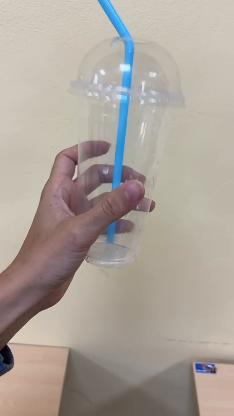Plastic Cup: (71, 32, 185, 266)
